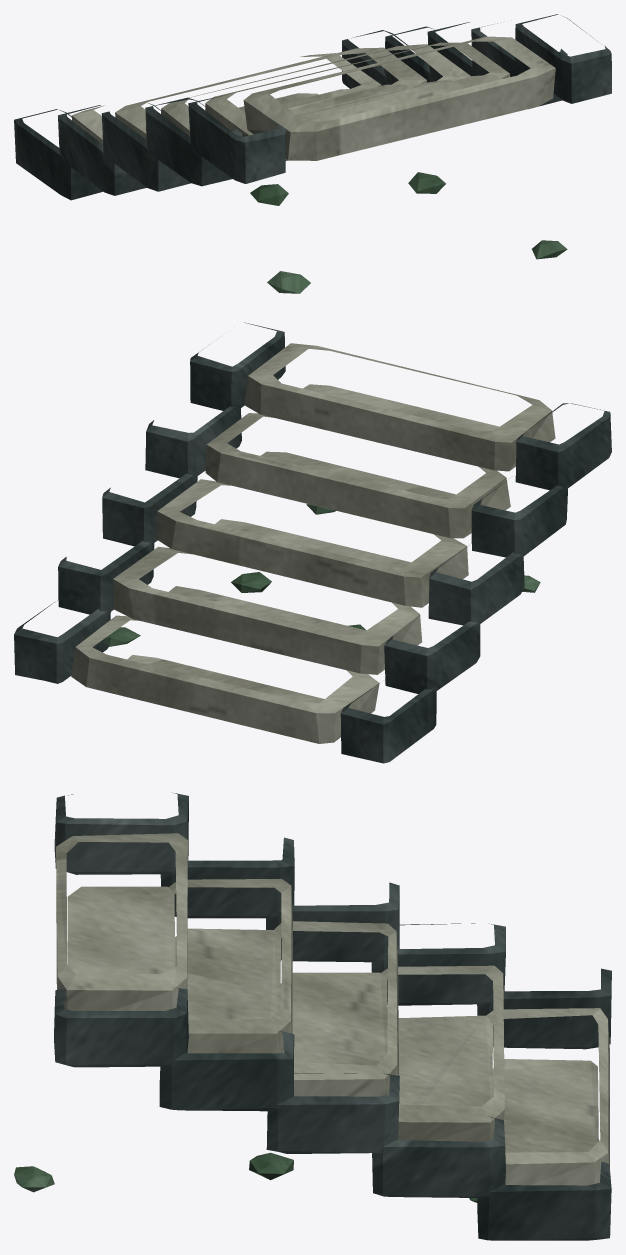
Rendered from 0361_stairs_11.glb.
3 renders of one model, top to bottom at view 1: azimuth 30°, elevation 25°; view 2: azimuth 150°, elevation 25°; view 3: azimuth 270°, elevation 25°, orthographic. The views are drawn at different scales.
Visible parts, largest first — view 1: stone_light, stone_dark, moss; view 2: stone_light, stone_dark, moss; view 3: stone_light, stone_dark, moss.
Part boxes in pixels (box(x1,y1,x2,y2)): stone_light: box(71, 36, 555, 160); stone_dark: box(14, 14, 611, 200); moss: box(250, 172, 567, 293); stone_light: box(71, 343, 555, 743); stone_dark: box(14, 322, 611, 763); moss: box(103, 504, 540, 646); stone_light: box(56, 833, 609, 1185); stone_dark: box(54, 792, 611, 1240); moss: box(14, 1152, 477, 1202).
Size of the model in its own units: 2.19 by 1.07 by 2.49.
3 materials, 3 textured.
